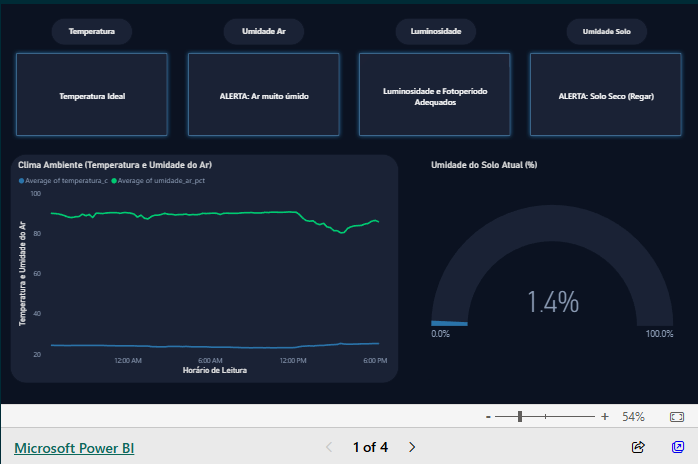

What the dashboard file says about the page in this screenshot:
{"tool":"powerbi","page":{"name":"Estado Atual","canvas":[1280,720],"ordinal":0},"visuals":[{"type":"cardVisual","fields":{"Rows":["public gold_granulada_monitorizacao.status_umidade_solo"]},"box":[846.3,131.5,377.5,106],"z":0},{"type":"lineChart","fields":{"Category":["public gold_granulada_monitorizacao.data_leitura_sp"],"Y":["Avg(public gold_granulada_monitorizacao.temperatura_c)","Avg(public gold_granulada_monitorizacao.umidade_ar_pct)"]},"box":[9.5,287.4,666,421],"z":1000},{"type":"cardVisual","fields":{"Rows":["public gold_granulada_monitorizacao.status_temperatura"]},"box":[17,136.8,391.3,94.4],"z":2000},{"type":"cardVisual","fields":{"Rows":["public gold_diaria_monitorizacao.status_saude_luminosa"]},"box":[423.1,28.6,391.3,106],"z":3000},{"type":"gauge","fields":{"Y":["Avg(public gold_granulada_monitorizacao.umidade_solo_pct)"]},"box":[772,299.1,451.8,421],"z":4000},{"type":"cardVisual","fields":{"Rows":["public gold_granulada_monitorizacao.status_umidade_ar"]},"box":[430.6,134.7,377.5,96.5],"z":5000}]}

Visuals, with their boxes on the page's 1280x720 design canvas (x1, y1, x2, y2). These are canvas units, not pixel positions in the 698x464 screenshot, which may show the page scaled, cropped or inside an application window:
cardVisual - public gold_granulada_monitorizacao.status_umidade_solo: locate(846, 132, 1224, 238)
lineChart - public gold_granulada_monitorizacao.data_leitura_sp x Avg(public gold_granulada_monitorizacao.temperatura_c): locate(10, 287, 676, 708)
cardVisual - public gold_granulada_monitorizacao.status_temperatura: locate(17, 137, 408, 231)
cardVisual - public gold_diaria_monitorizacao.status_saude_luminosa: locate(423, 29, 814, 135)
gauge - Avg(public gold_granulada_monitorizacao.umidade_solo_pct): locate(772, 299, 1224, 720)
cardVisual - public gold_granulada_monitorizacao.status_umidade_ar: locate(431, 135, 808, 231)
